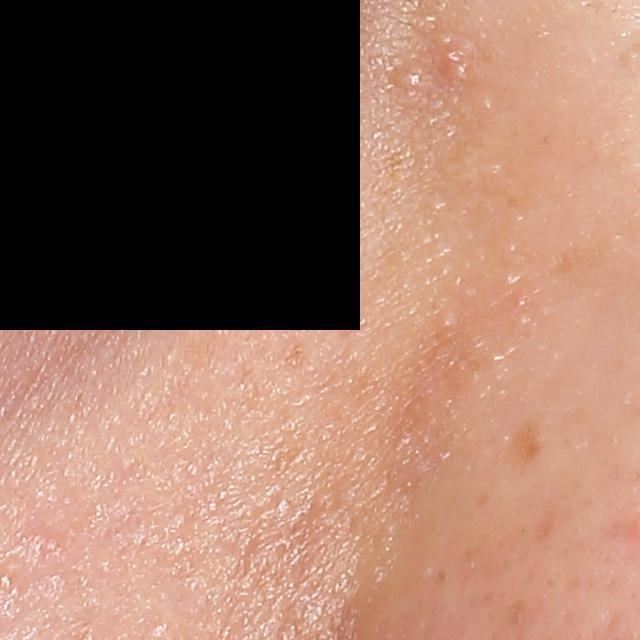comedo: (390, 68, 423, 95), (433, 306, 458, 332)
melasma: (503, 420, 546, 483), (280, 340, 314, 376)
